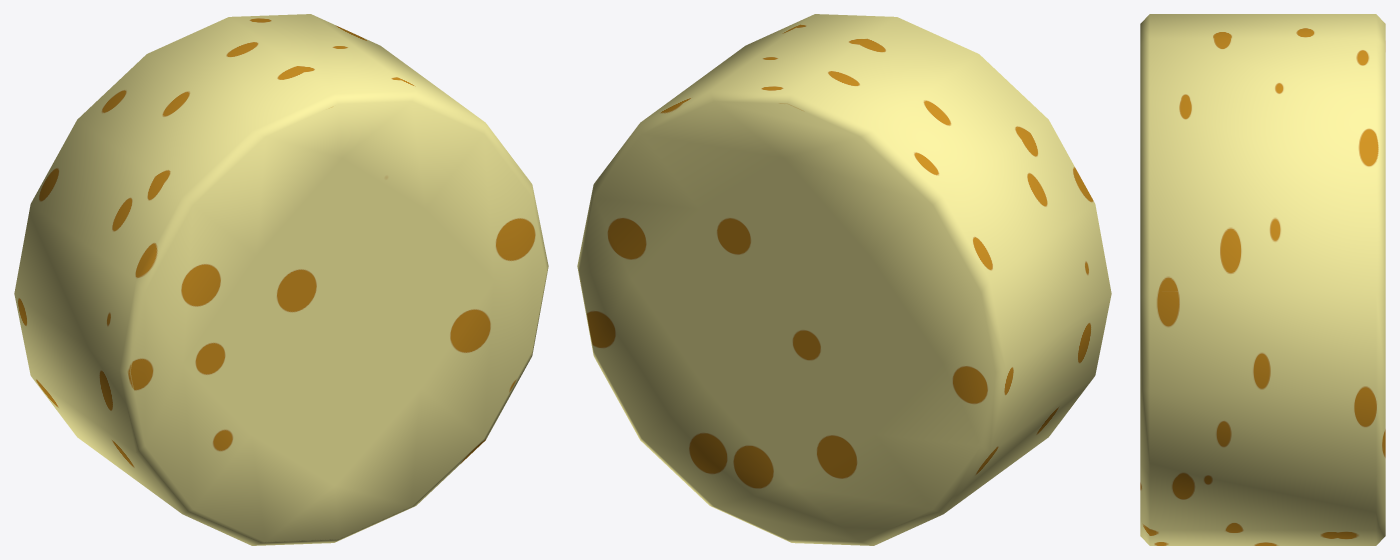
The model's file is Cheese.fbx.
3 views of the same model, side by side, from view 1: azimuth 30°, elevation 25°; view 2: azimuth 150°, elevation 25°; view 3: azimuth 270°, elevation 25° (orthographic). The views are drawn at different scales.
Parts seen in each view (by area): view 1: Cheese; view 2: Cheese; view 3: Cheese.
Part boxes in pixels (left/top/right/bottom): Cheese: left=14, top=14, right=548, bottom=545; Cheese: left=577, top=14, right=1111, bottom=545; Cheese: left=1140, top=14, right=1385, bottom=545.
Bounding box in the file's own units: 0.5523 × 0.5523 × 0.2546.
Materials: 1 (1 with a texture image).
